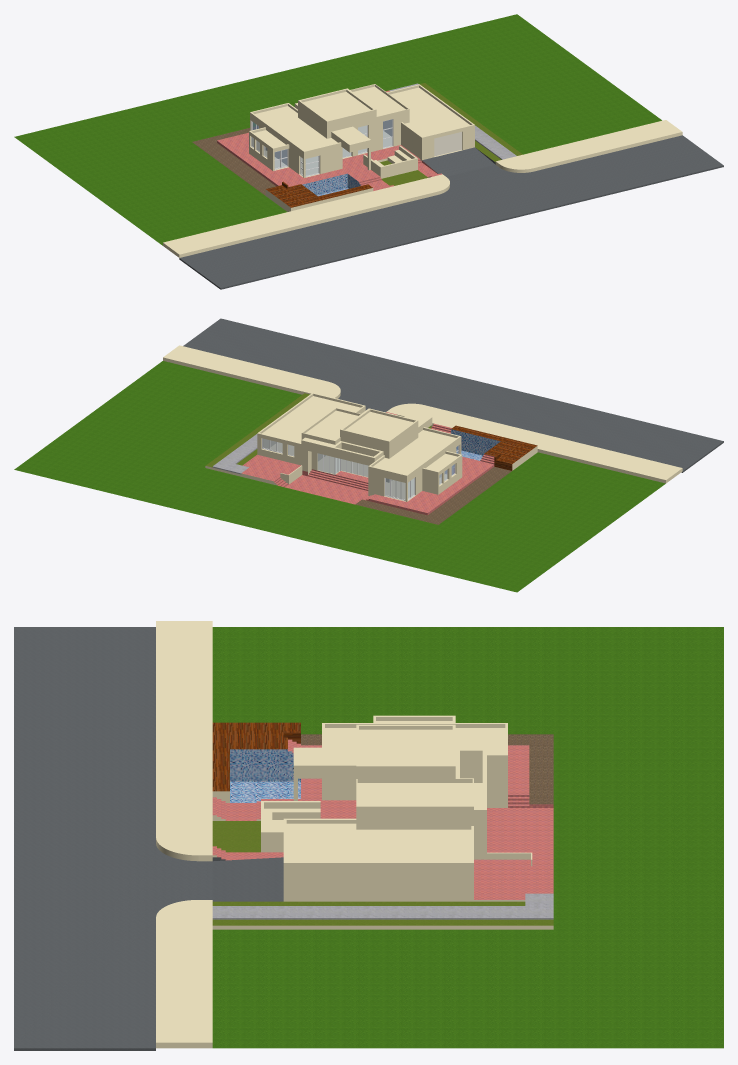
3 renders of one model, top to bottom at view 1: azimuth 30°, elevation 25°; view 2: azimuth 150°, elevation 25°; view 3: azimuth 270°, elevation 25°, orthographic. The views are drawn at different scales.
Visible parts, largest first — view 1: 19165, 19446, 16709, 19272, 16306, 19233, 16534, 15783, 16438, 19135, 16554, 15773 (+3 smaller); view 2: 19165, 19446, 16709, 19272, 16306, 19233, 16534, 15783, 16438, 16330, 16554, 15773 (+2 smaller); view 3: 19165, 19446, 16709, 16306, 19272, 19233, 16534, 16554, 19135, 15783, 16544, 16595 (+2 smaller).
Part boxes in pixels (x1,y1,x2,y2): 19165: [14, 14, 661, 245]; 19446: [179, 135, 723, 289]; 16709: [192, 83, 522, 211]; 19272: [163, 174, 449, 257]; 16306: [298, 84, 474, 160]; 19233: [495, 120, 682, 172]; 16534: [390, 87, 469, 136]; 15783: [250, 103, 342, 177]; 16438: [255, 106, 337, 150]; 19135: [422, 147, 495, 176]; 16554: [303, 92, 370, 120]; 15773: [249, 127, 289, 170]; 19165: [14, 361, 665, 592]; 19446: [183, 318, 723, 472]; 16709: [205, 393, 537, 524]; 19272: [386, 403, 682, 483]; 16306: [257, 393, 418, 482]; 19233: [163, 345, 340, 398]; 16534: [262, 396, 360, 442]; 15783: [368, 427, 461, 501]; 16438: [373, 430, 456, 474]; 16330: [301, 437, 383, 471]; 16554: [345, 411, 413, 440]; 15773: [422, 451, 462, 494]; 19165: [212, 627, 723, 1048]; 19446: [14, 627, 212, 1050]; 16709: [212, 722, 553, 929]; 16306: [283, 724, 473, 901]; 19272: [156, 621, 212, 861]; 19233: [156, 900, 212, 1048]; 16534: [286, 823, 471, 861]; 16554: [359, 729, 452, 764]; 19135: [212, 857, 283, 901]; 15783: [322, 723, 507, 800]; 16544: [357, 783, 472, 805]; 16595: [293, 747, 356, 778].
Size of the model in its own units: 70.24 by 7.4 by 50.
Materials: 970 (194 with a texture image).
